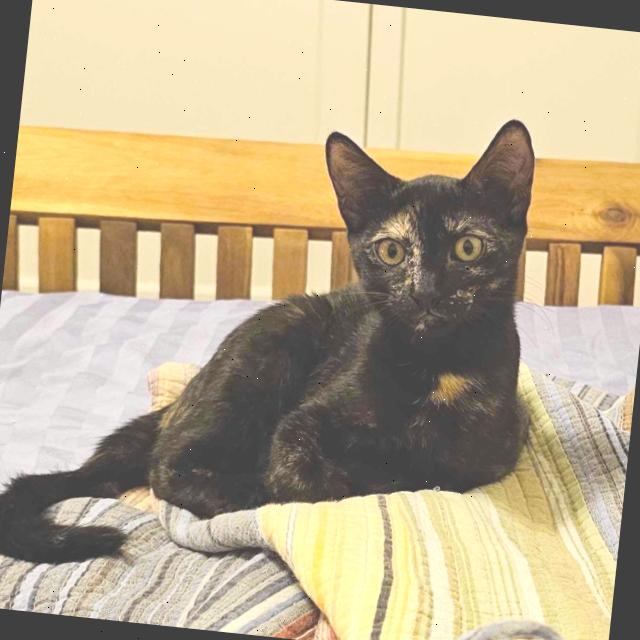domestic_short_hair_cat: (295, 92, 551, 386)
